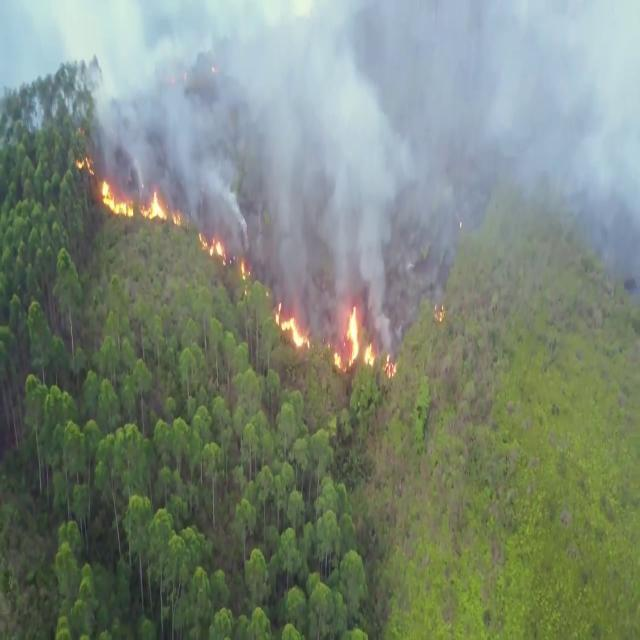Fire: (332, 303, 360, 373), (274, 300, 310, 350), (102, 178, 134, 218), (198, 231, 226, 266), (138, 190, 168, 222), (75, 156, 95, 176), (240, 258, 250, 296), (383, 352, 397, 378), (364, 342, 375, 366), (172, 212, 182, 226)
Smoke: (0, 1, 640, 347)
